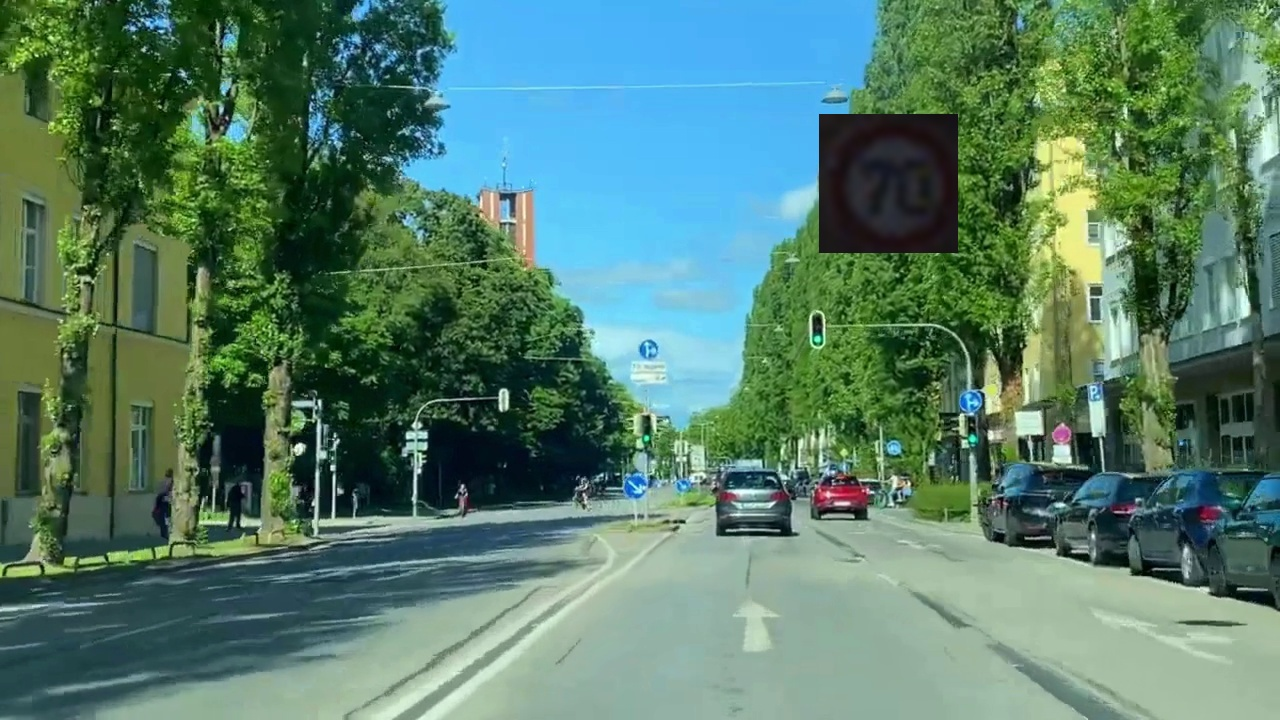Speed 70: (819, 114, 958, 253)
